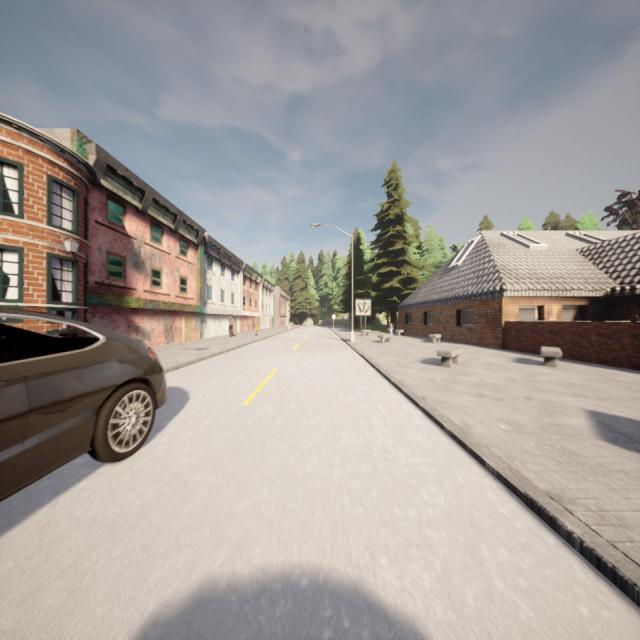Pedestrian: (228, 315, 234, 336), (388, 322, 394, 337)
Traffic_Signs: (331, 314, 336, 320)
Vehicle: (0, 308, 166, 499)
